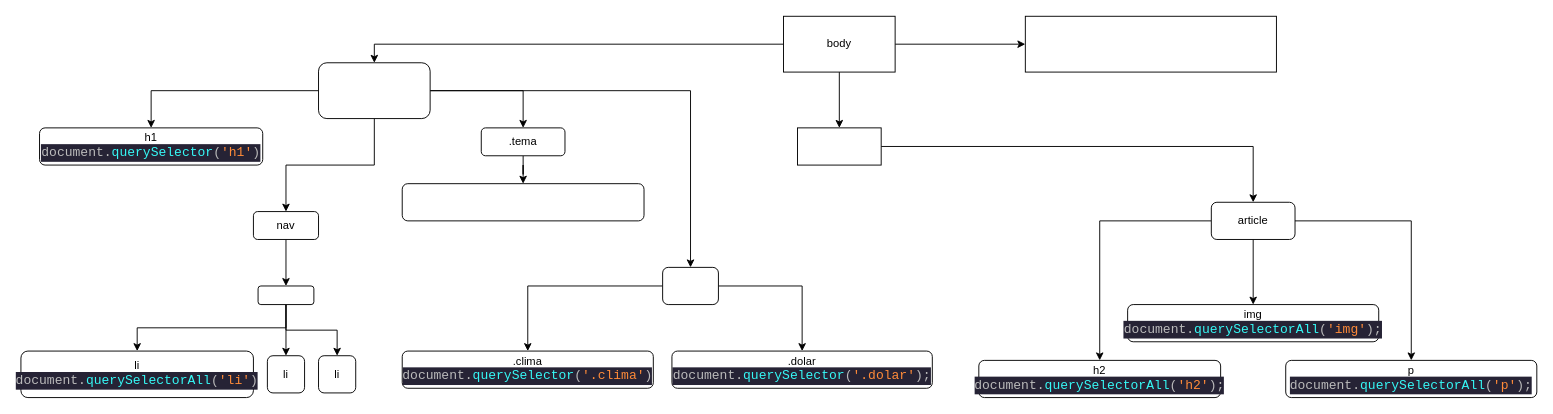
This 1553x414 diagram has some shape labels left out. The shapes that lost their labels are listed below. From the top down, each one's box as (x1, y1, x2, y2) in pixels, then its label:
(1024, 15, 1276, 72): footer document. querySelector ( 'footer' );
(318, 62, 430, 119): header
(797, 127, 881, 165): main
(401, 183, 644, 221): buton document. querySelector ( 'button' )
(257, 285, 314, 305): ul
(662, 266, 718, 305): .info
